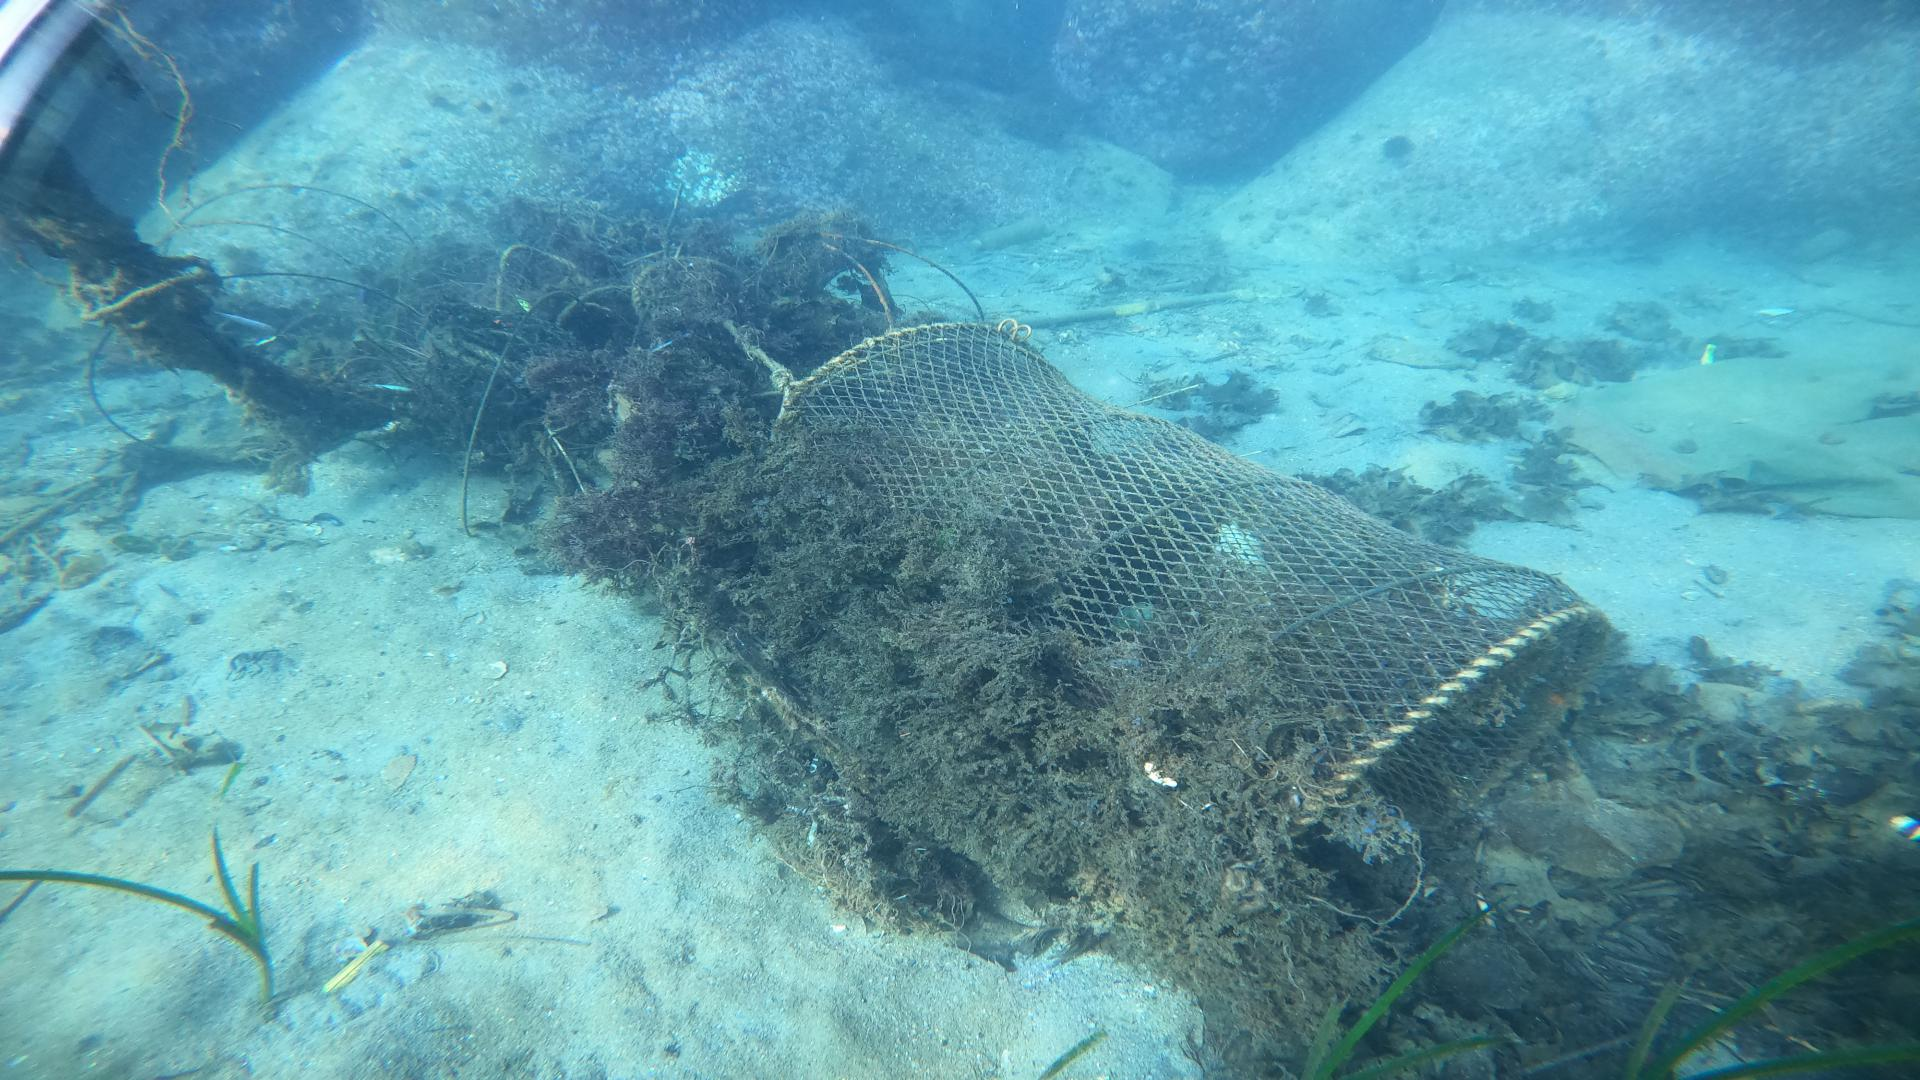spring fish trap: (767, 314, 1611, 862)
